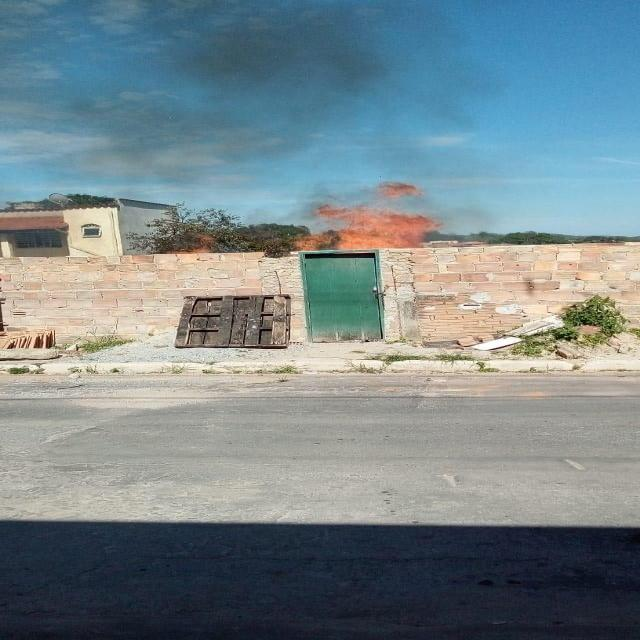Fire: (288, 184, 438, 254), (161, 232, 220, 255)
